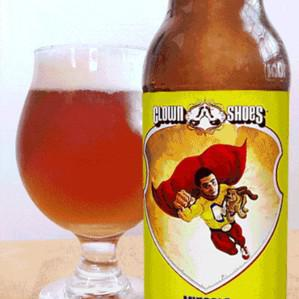beer: (142, 1, 286, 299)
